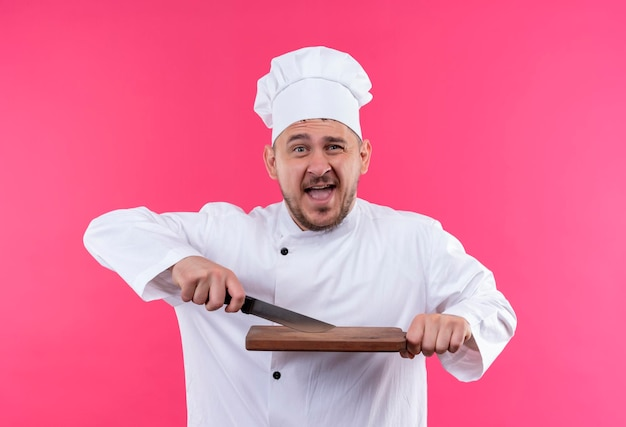knife: (246, 295, 338, 333)
